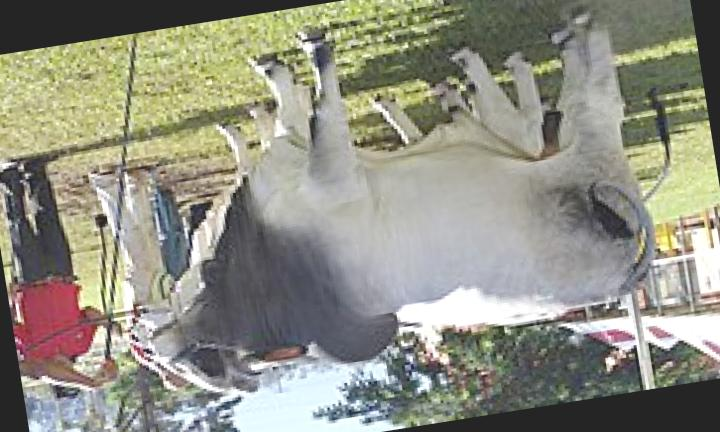Brahman: (155, 25, 654, 392)
